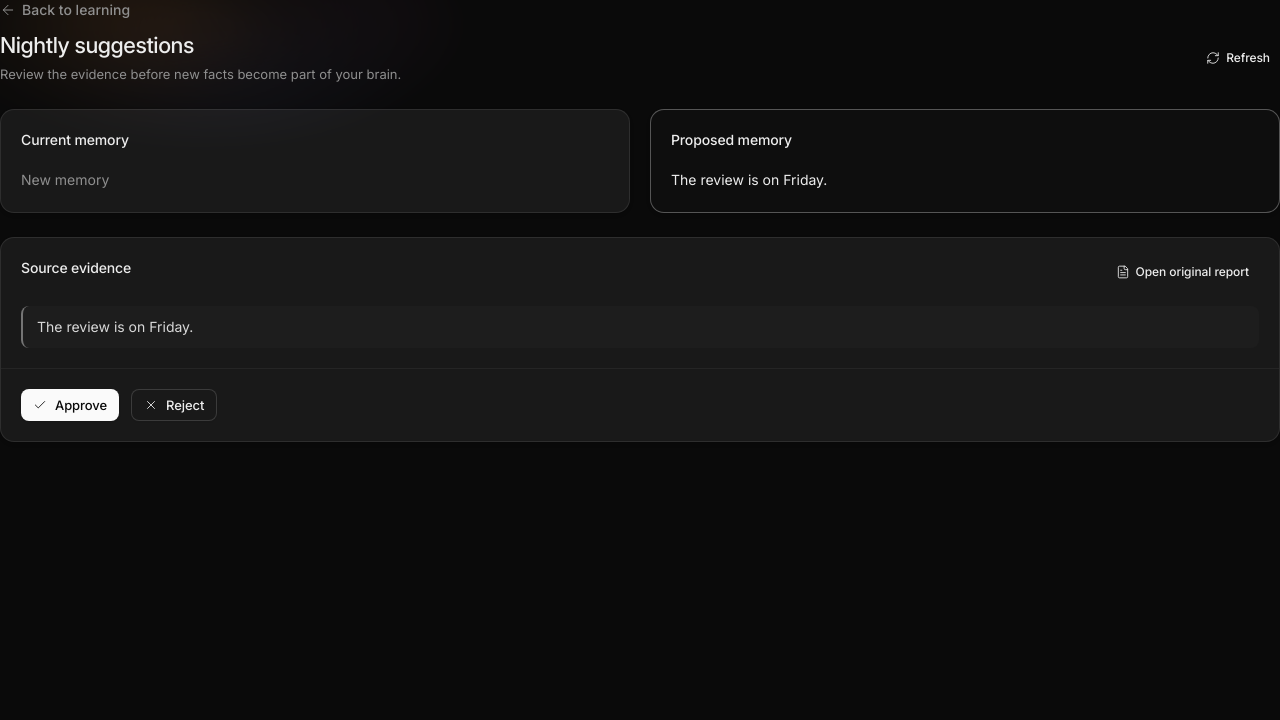
Test: shows stored evidence and confirms a Dreaming approval before making any change
Check: the heading "Source evidence" is shown, box [21,258,131,277]
Check: the text "The review is on Friday." is shown 2 times, box [671,171,827,188]; [21,306,1259,348]
Click the button "Approve": (70, 405) [21,389,119,421]
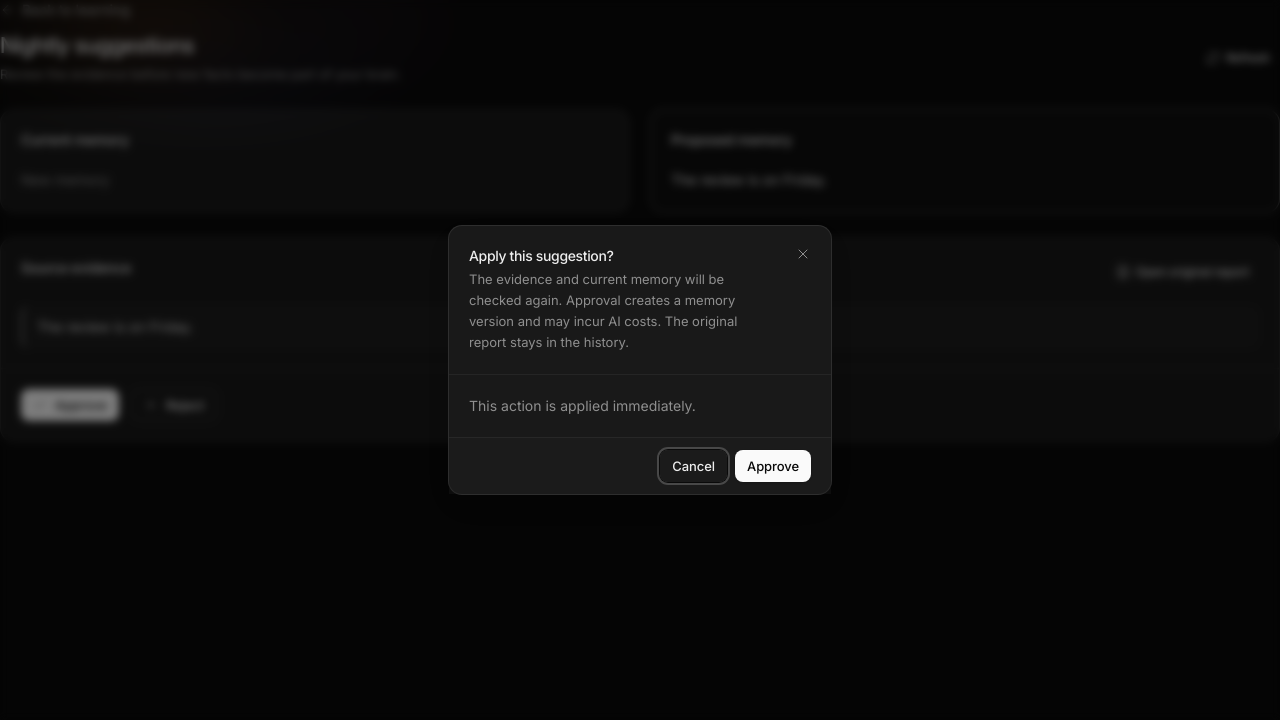
Click the button "Approve": (773, 466) [735,450,811,482]
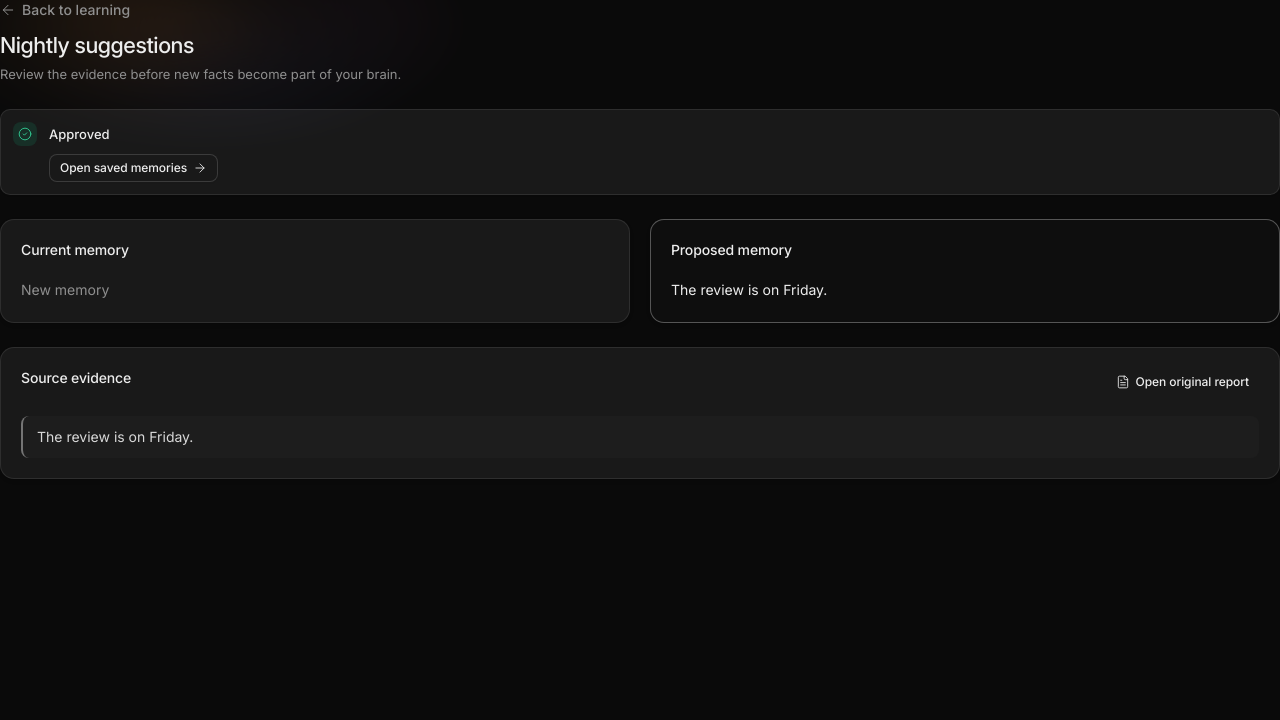
Check: the text "Approved" is shown, box [49,126,110,142]
